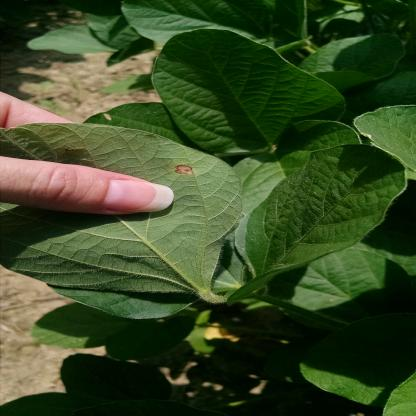Soyabean leaf: (0, 121, 245, 317), (157, 26, 348, 175), (243, 142, 406, 302)
